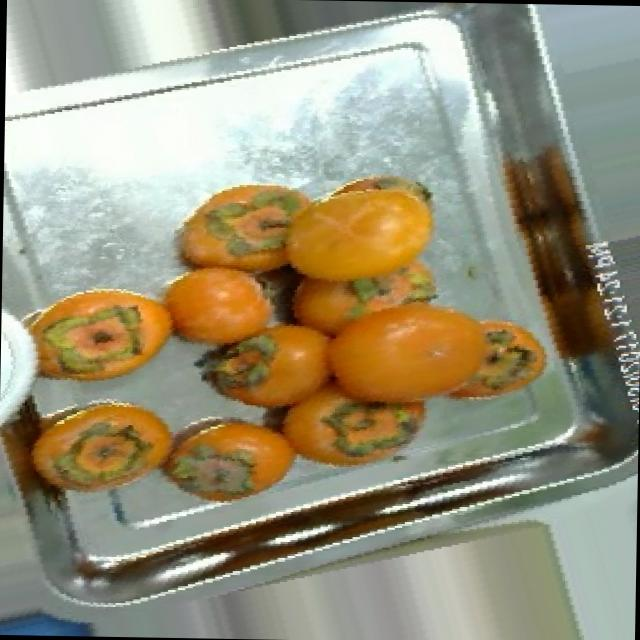Fruit: (268, 157, 454, 320), (360, 284, 566, 422), (8, 382, 185, 512), (135, 391, 311, 520), (4, 274, 184, 398), (160, 165, 330, 286)
